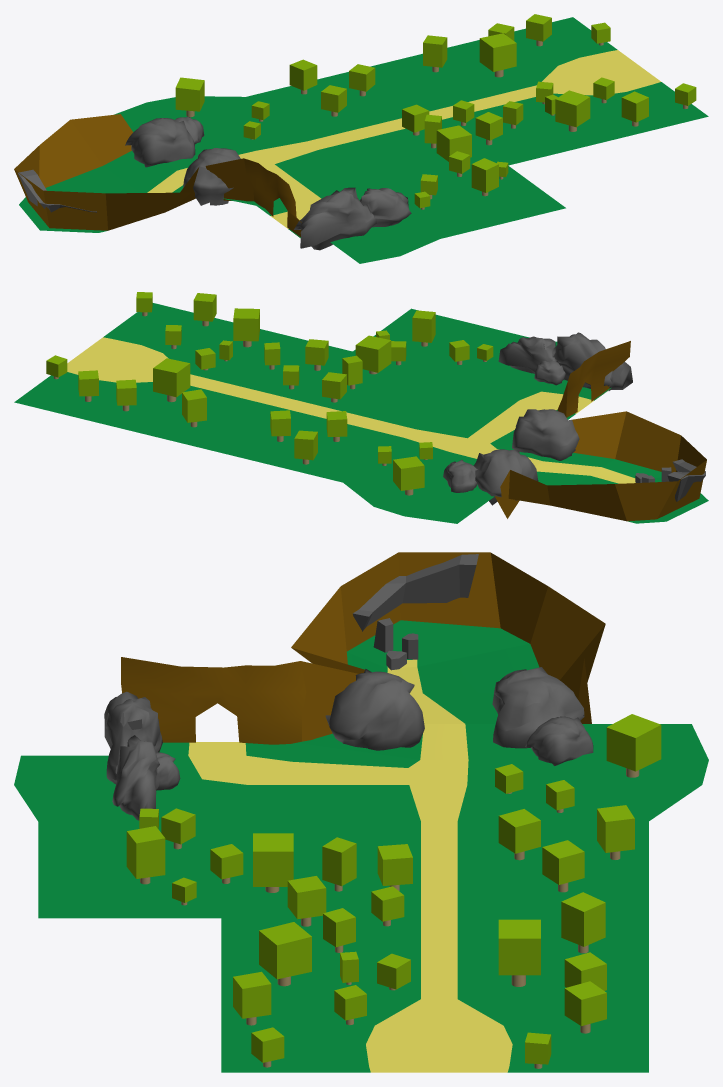
3 views of the same model, one above another, from view 1: azimuth 30°, elevation 25°; view 2: azimuth 150°, elevation 25°; view 3: azimuth 270°, elevation 25° (orthographic). The views are drawn at different scales.
Visible parts, largest first — view 1: polySurface150; view 2: polySurface150; view 3: polySurface150.
Boxes of the visible parts, bbox=[...] form: polySurface150: bbox=[14, 14, 708, 263]; polySurface150: bbox=[14, 292, 708, 523]; polySurface150: bbox=[14, 552, 708, 1072].
Bounding box in the file's own units: 21.67 × 2.28 × 13.55.
